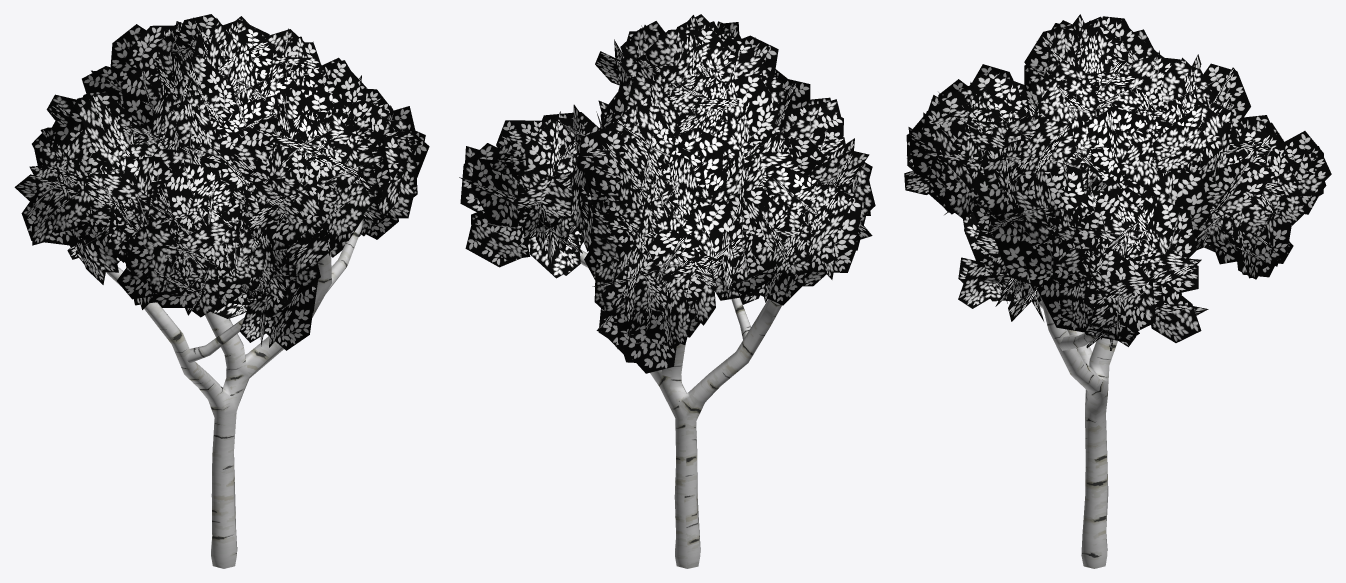
File: P_BirchTreeB3.obj
3 views of the same model, side by side, from view 1: azimuth 30°, elevation 25°; view 2: azimuth 150°, elevation 25°; view 3: azimuth 270°, elevation 25° (orthographic). The views are drawn at different scales.
Size of the model in its own units: 18.55 by 24.28 by 17.32.
